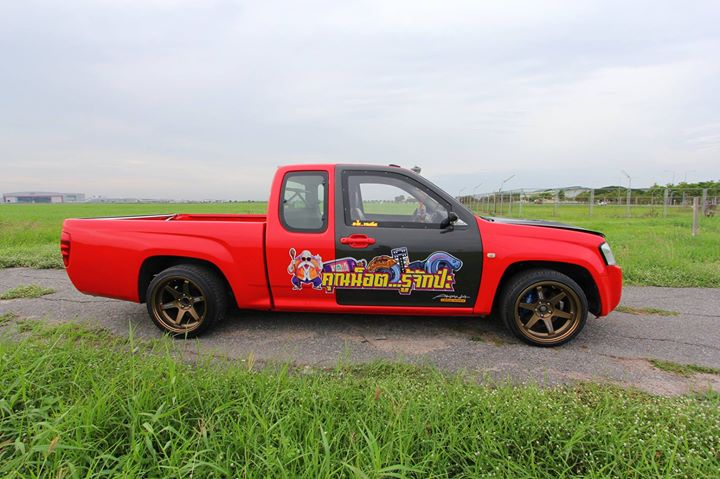pickup: (54, 161, 625, 353)
